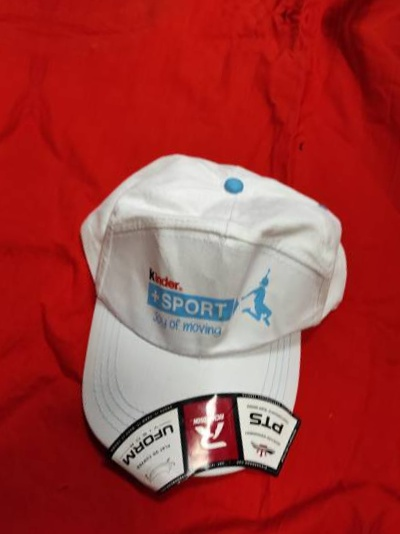Hat: (0, 91, 384, 516), (0, 32, 12, 457)
